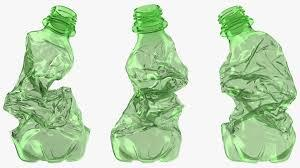plastic: (1, 5, 88, 159), (109, 5, 188, 160), (220, 5, 295, 162)
